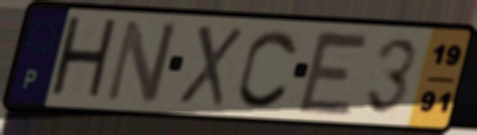3: (365, 36, 420, 116)
C: (234, 26, 302, 112)
E: (294, 27, 374, 118)
H: (46, 13, 122, 105)
N: (101, 16, 181, 105)
X: (175, 22, 246, 110)
